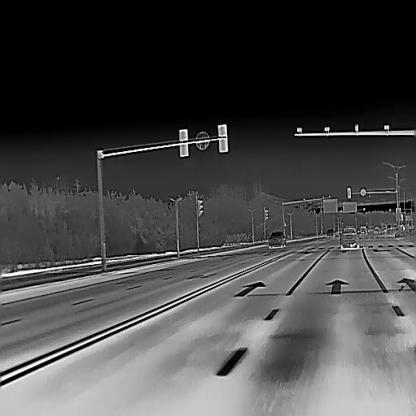car: (339, 226, 359, 247), (268, 230, 285, 247), (326, 227, 335, 237), (359, 224, 368, 234), (373, 228, 378, 233)
